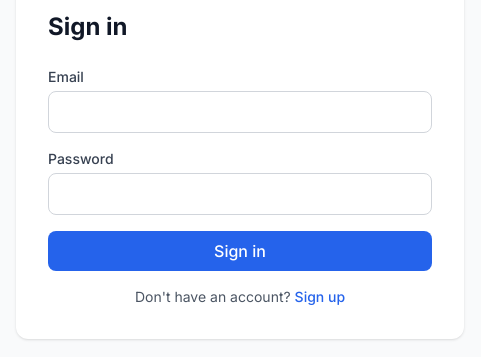
Test case: LoginPage › disables the submit button while loading
This screenshot has width=481, height=357.
Type "user@example.com" into the field labelled "Email" at (240, 112), box x1=48 y1=91 x2=432 y2=133
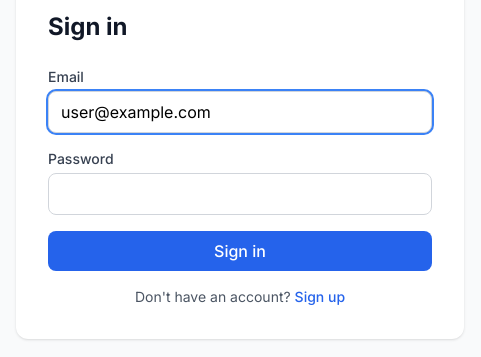
Type "password123" into the password field labelled "Password" at (240, 194), box x1=48 y1=173 x2=432 y2=215
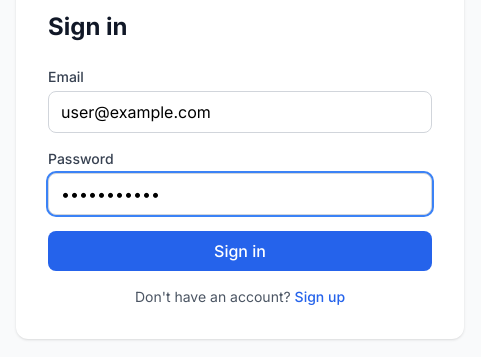
Submit the form "Email Password Sign in", box x1=48 y1=67 x2=432 y2=271
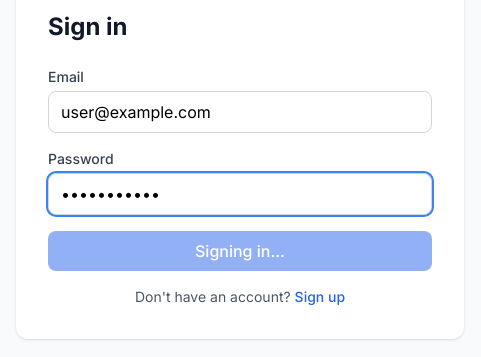
Expected: the button "Signing in..." is disabled, x1=48 y1=231 x2=432 y2=271
